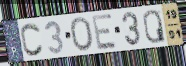3: (44, 19, 65, 55), (122, 11, 142, 47)
C: (20, 21, 45, 57)
E: (91, 13, 119, 52)
O: (69, 15, 95, 52)
Q: (142, 8, 167, 44)
